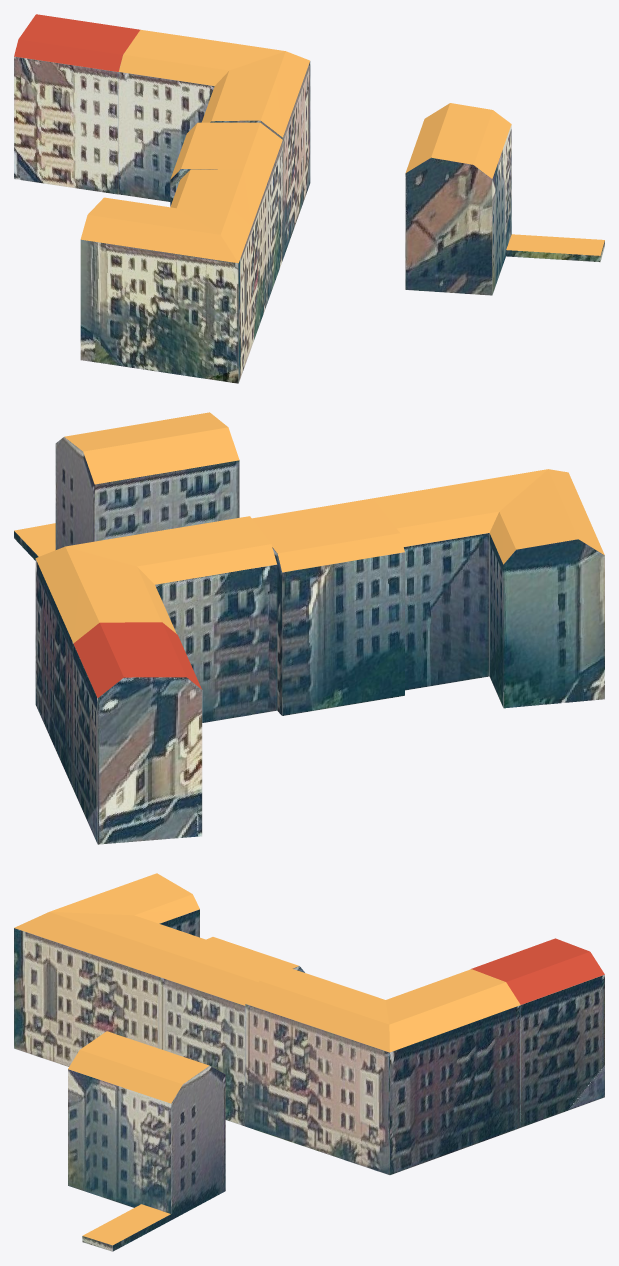
The picture shows the model from 3 angles, top to bottom: view 1: azimuth 30°, elevation 25°; view 2: azimuth 150°, elevation 25°; view 3: azimuth 270°, elevation 25°; orthographic projection. The views are drawn at different scales.
Size of the model in its own units: 85.19 by 22.08 by 85.35.
Materials: 3 (1 with a texture image).
